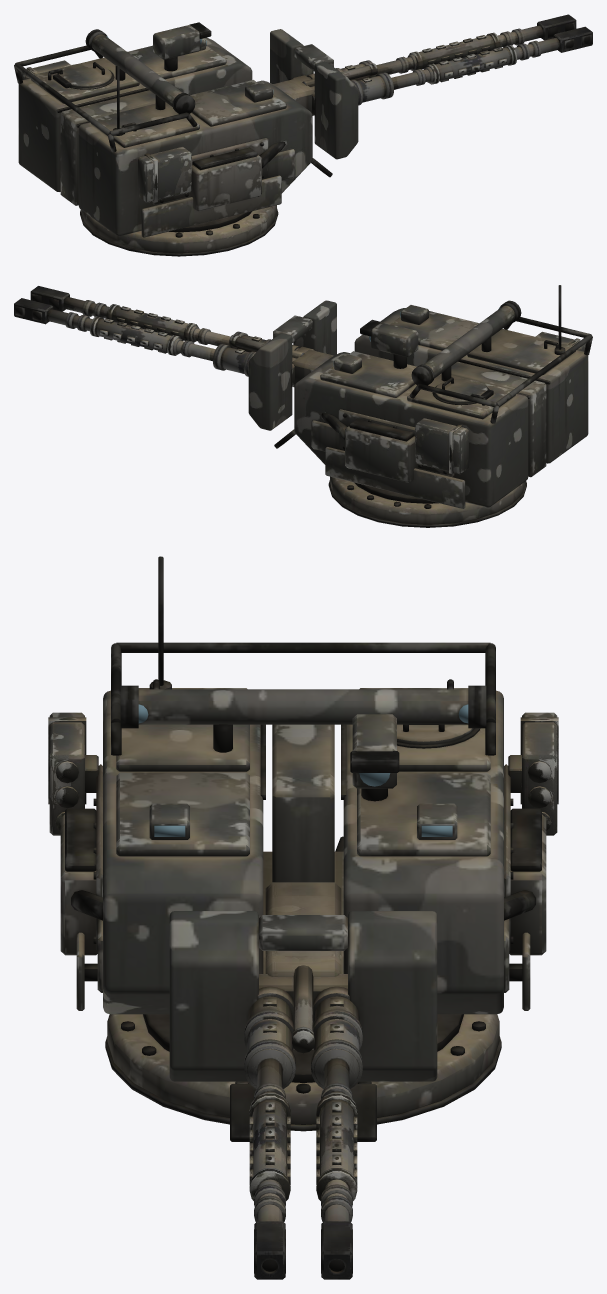
The model's file is turret_kit_t3_ash.glb.
3 renders of one model, top to bottom at view 1: azimuth 30°, elevation 25°; view 2: azimuth 150°, elevation 25°; view 3: azimuth 270°, elevation 25°, orthographic. The views are drawn at different scales.
Visible parts, largest first — view 1: turret_twin_t3, guns, pods; view 2: turret_twin_t3, guns, pods; view 3: turret_twin_t3, guns, pods.
Boxes of the visible parts, box(x1,y1,x2,y2) form: turret_twin_t3: box(14, 22, 358, 256); guns: box(273, 14, 592, 115); pods: box(21, 60, 191, 202); turret_twin_t3: box(248, 285, 592, 527); guns: box(14, 286, 333, 387); pods: box(415, 331, 586, 474); turret_twin_t3: box(60, 556, 546, 1141); guns: box(244, 882, 362, 1279); pods: box(48, 712, 558, 835).
Bounding box in the file's own units: 2.7 × 0.98 × 1.15.
4 materials, 3 textured.
